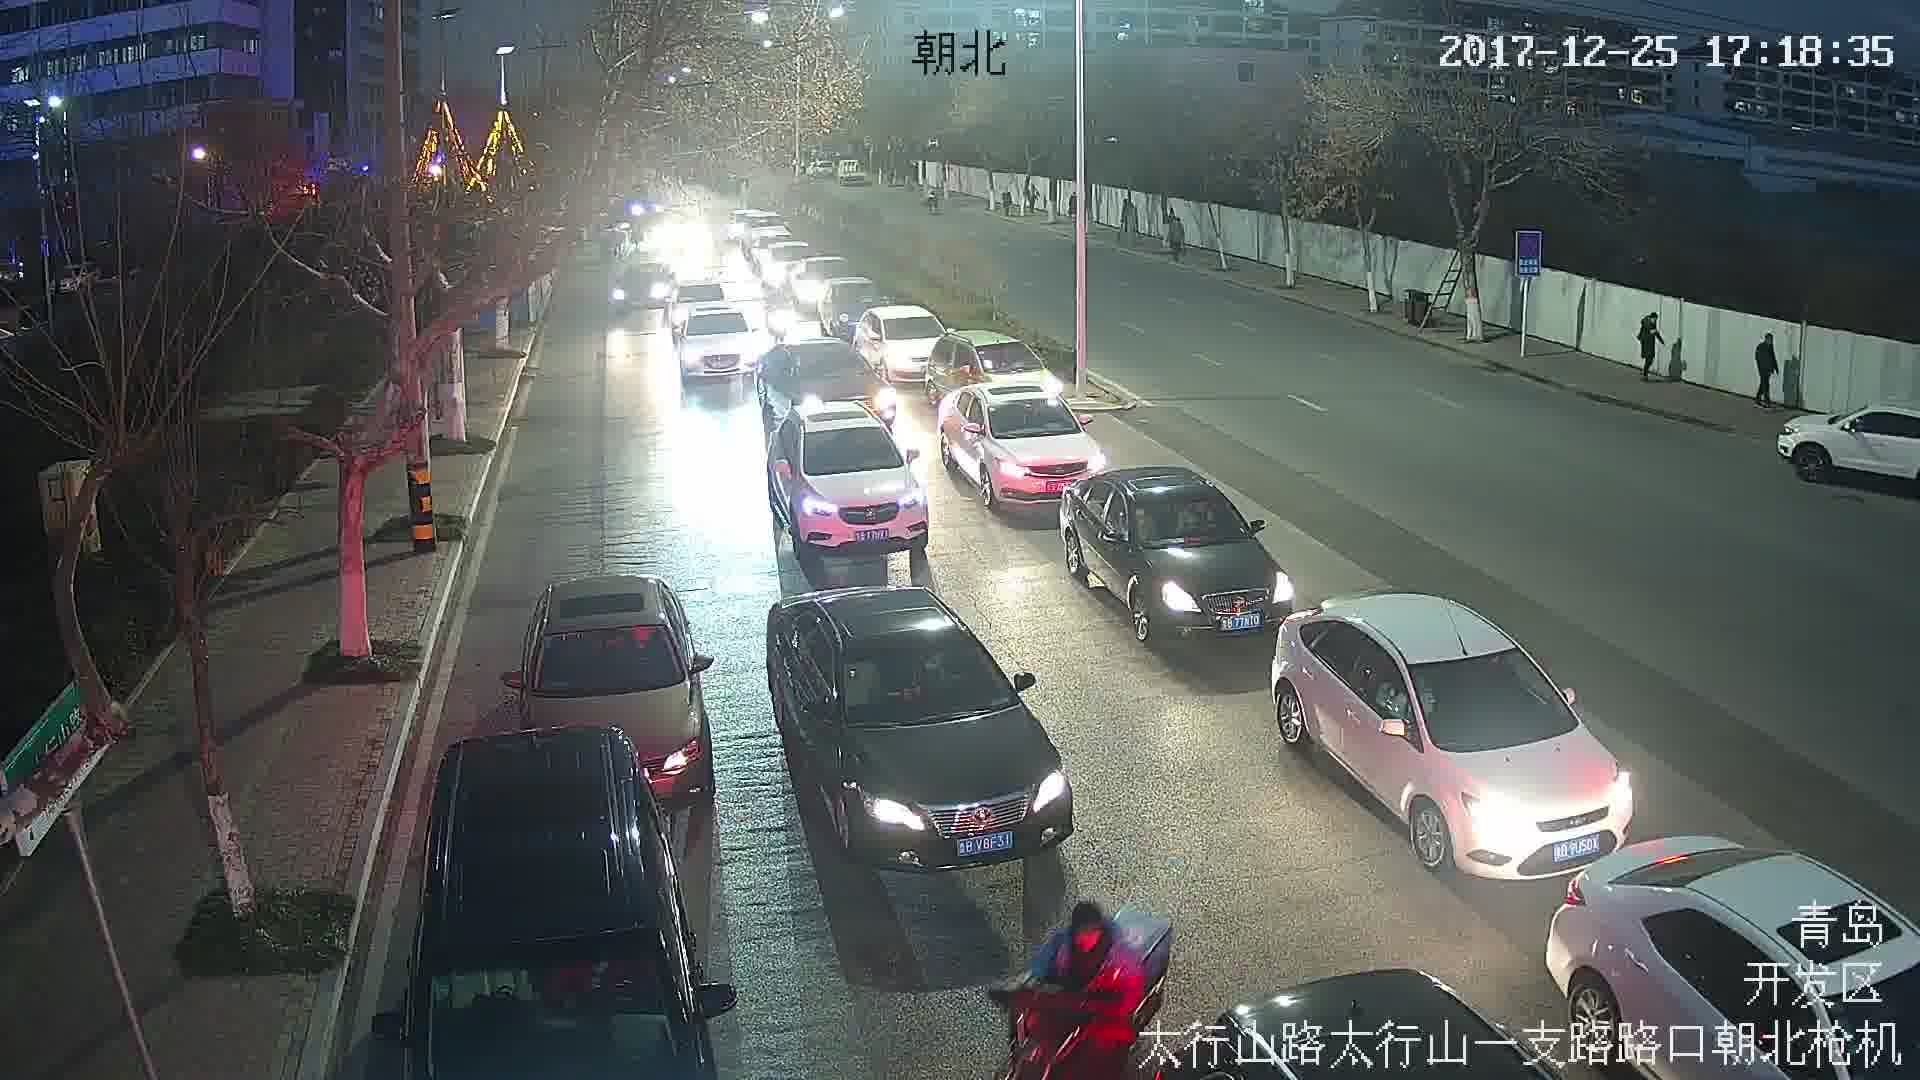car: (1275, 592, 1620, 875), (770, 589, 1074, 864), (506, 578, 720, 800), (1062, 469, 1295, 648), (767, 403, 925, 548), (941, 380, 1103, 507), (675, 307, 760, 375)
person: (1041, 899, 1137, 1016), (1752, 321, 1780, 406), (1639, 312, 1662, 387)
